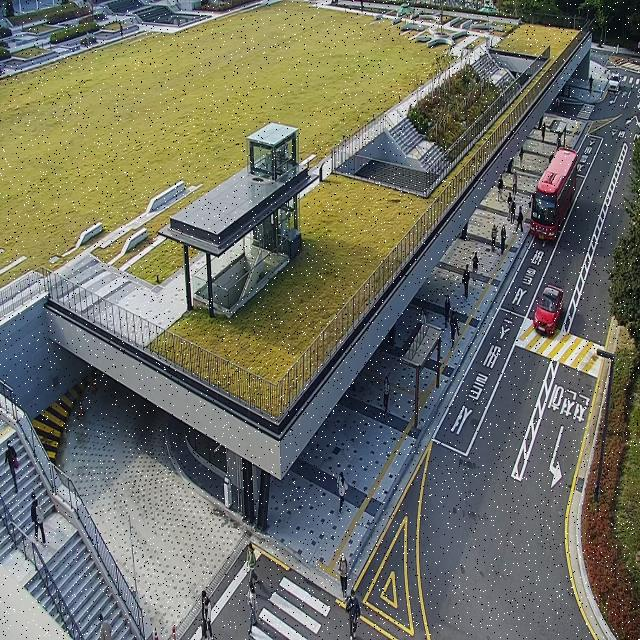queue: (414, 326, 442, 428)
